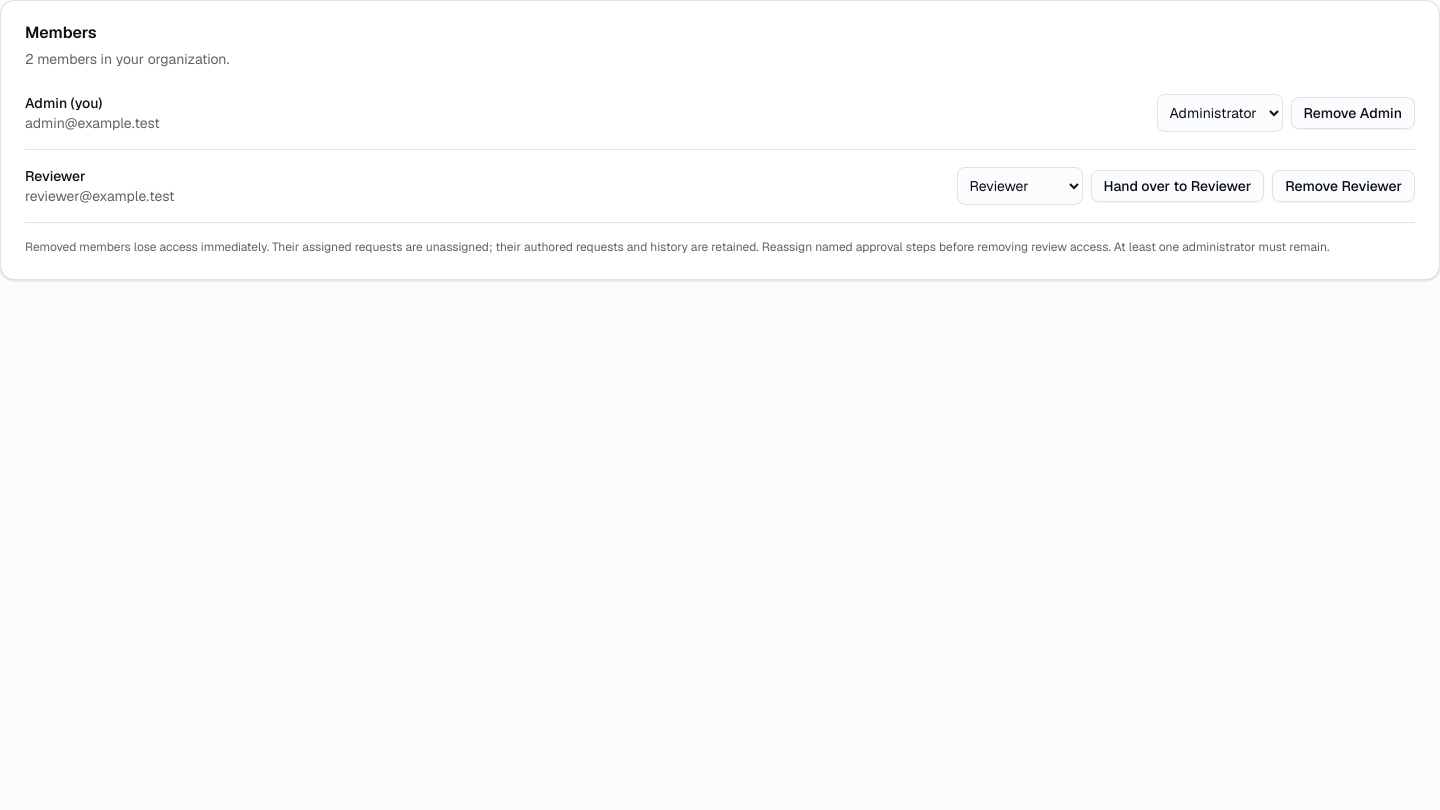
Test: member management › requires confirmation and permits cancellation before removing a member
Click the button "Remove Reviewer": (1344, 186) [1272, 170, 1415, 202]
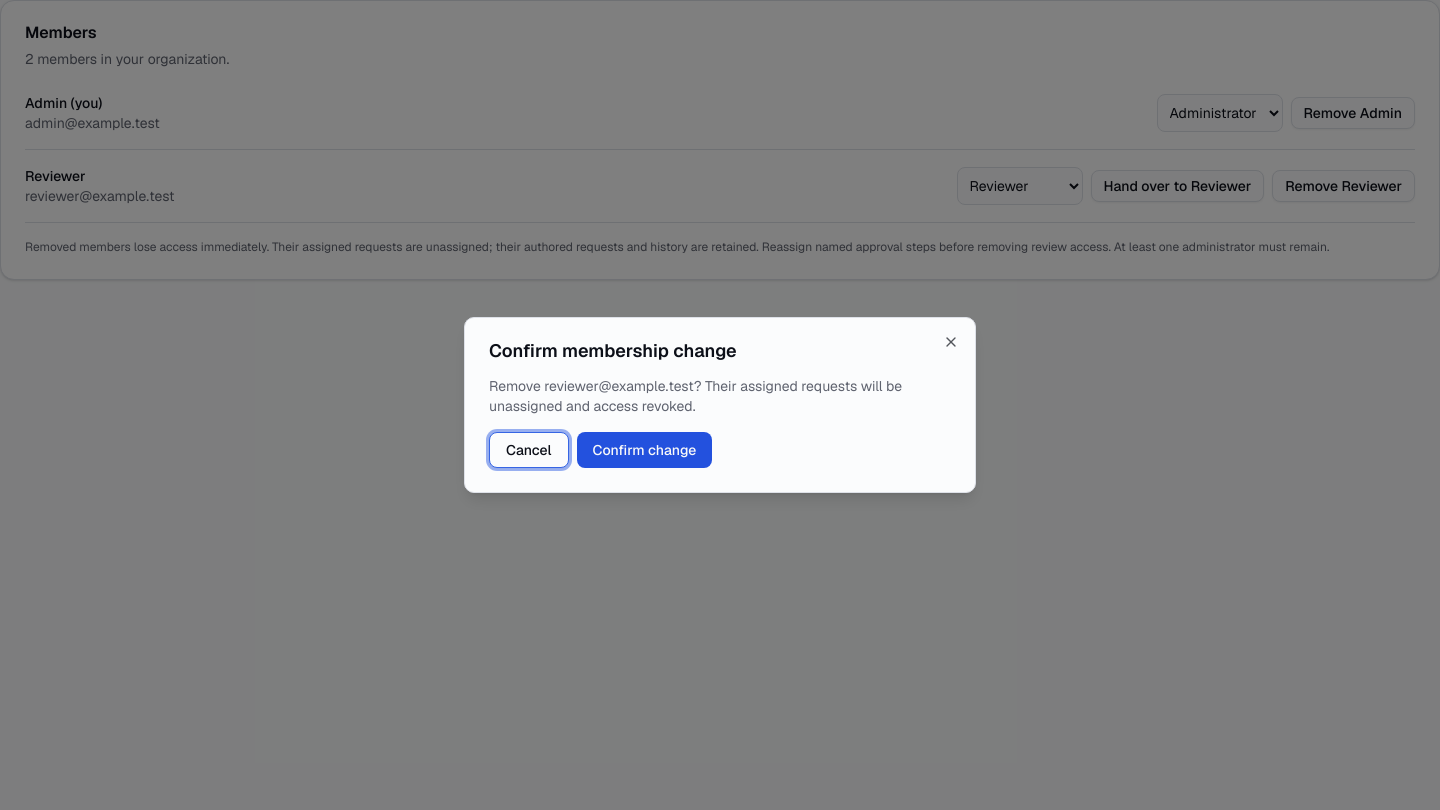
Expected: the dialog shows "unassigned", [489, 377, 902, 415]
Click the button "Cancel": (529, 450) [489, 432, 569, 468]
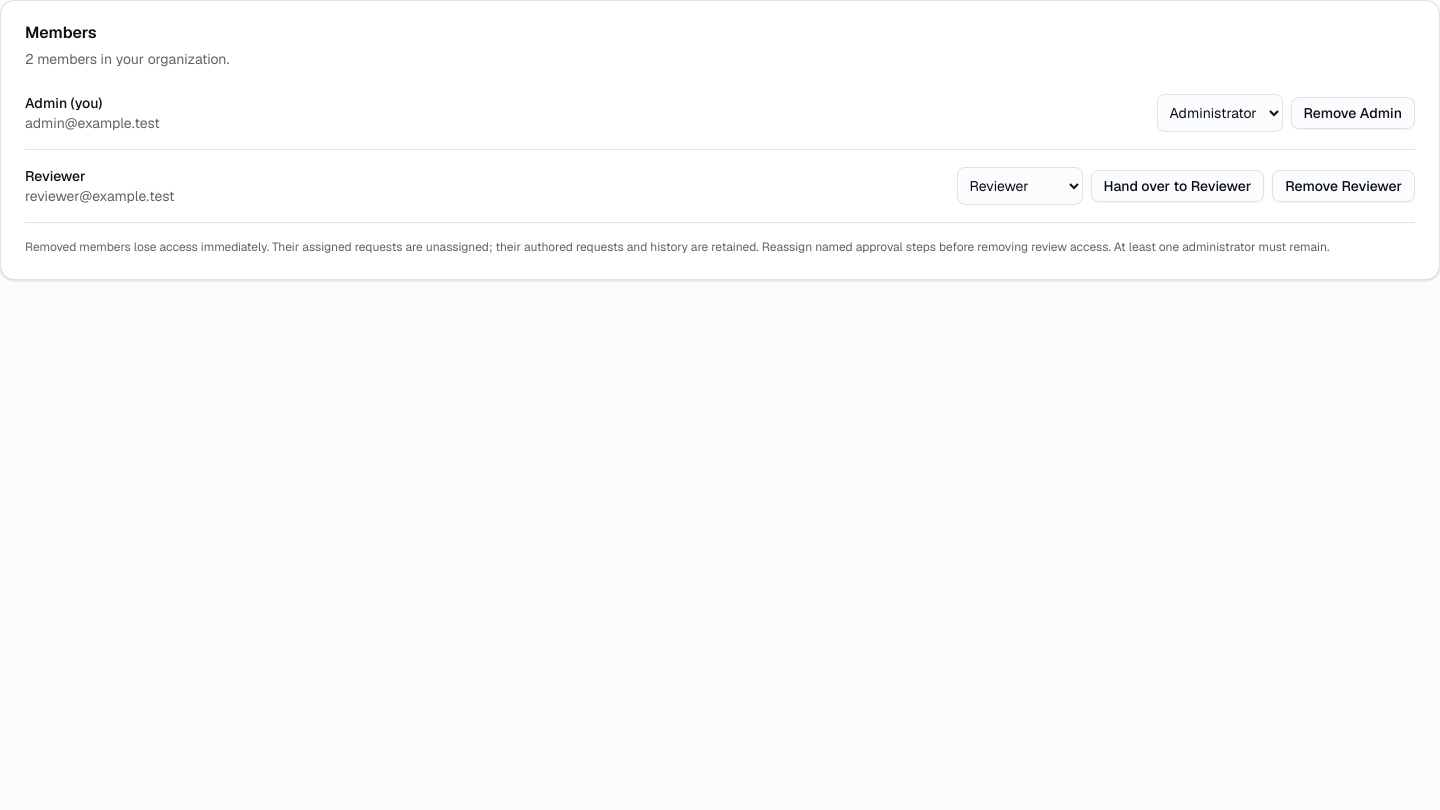
Expected: the dialog is gone
Click the button "Remove Reviewer": (1344, 186) [1272, 170, 1415, 202]
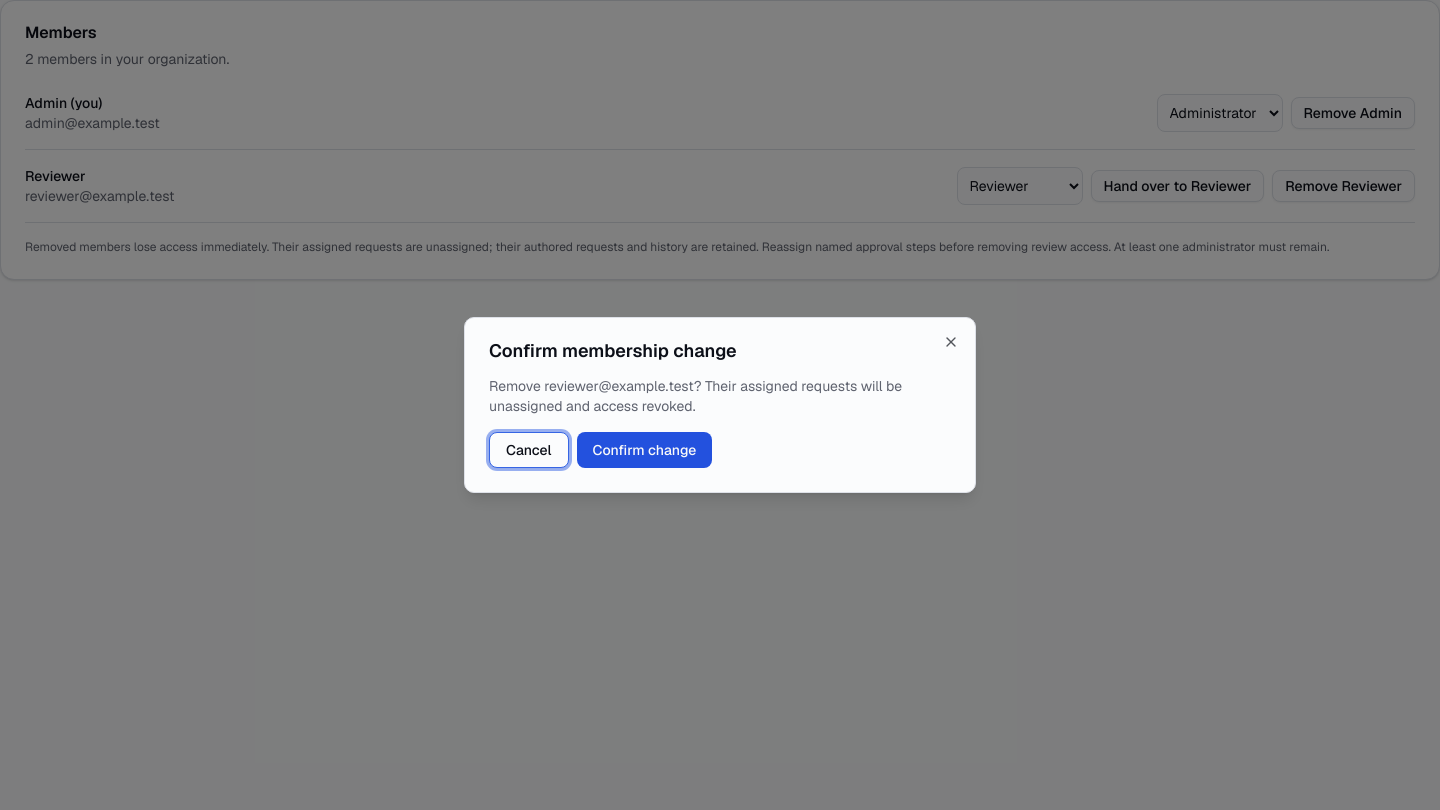
Click the button "Confirm change": (644, 450) [577, 432, 712, 468]
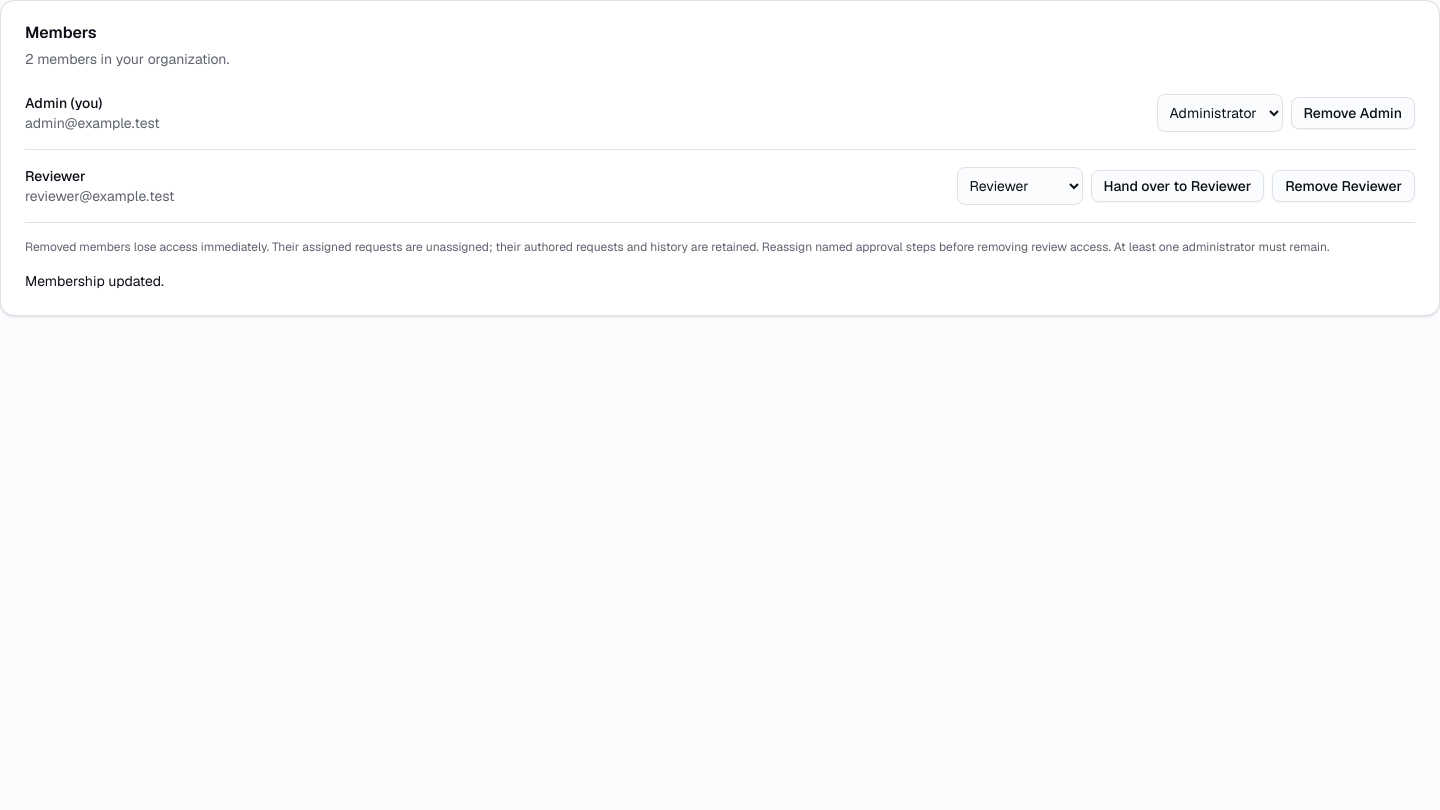
Expected: the message shows "Membership updated", [25, 272, 164, 290]
